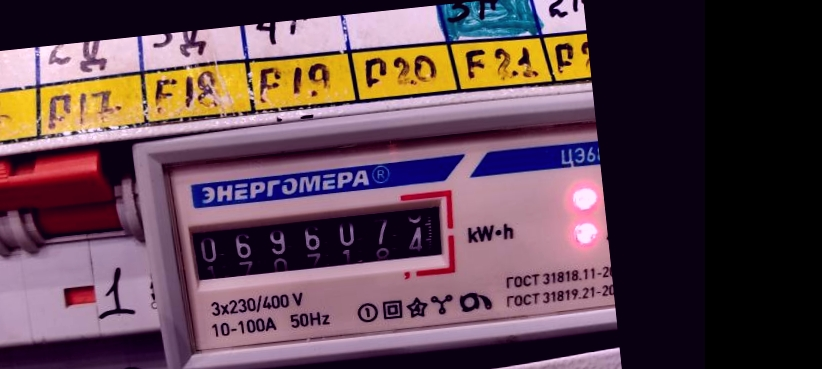0: (335, 216, 357, 248), (197, 234, 218, 263)
4: (405, 224, 424, 254)
6: (300, 222, 322, 253), (231, 229, 253, 259)
7: (371, 215, 391, 246)
9: (266, 227, 286, 256)
screen: (172, 181, 465, 300)
